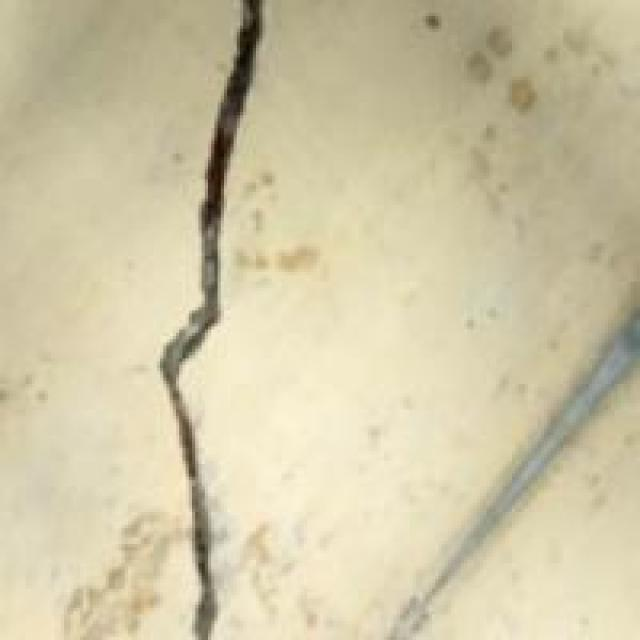crack: (102, 0, 384, 637)
